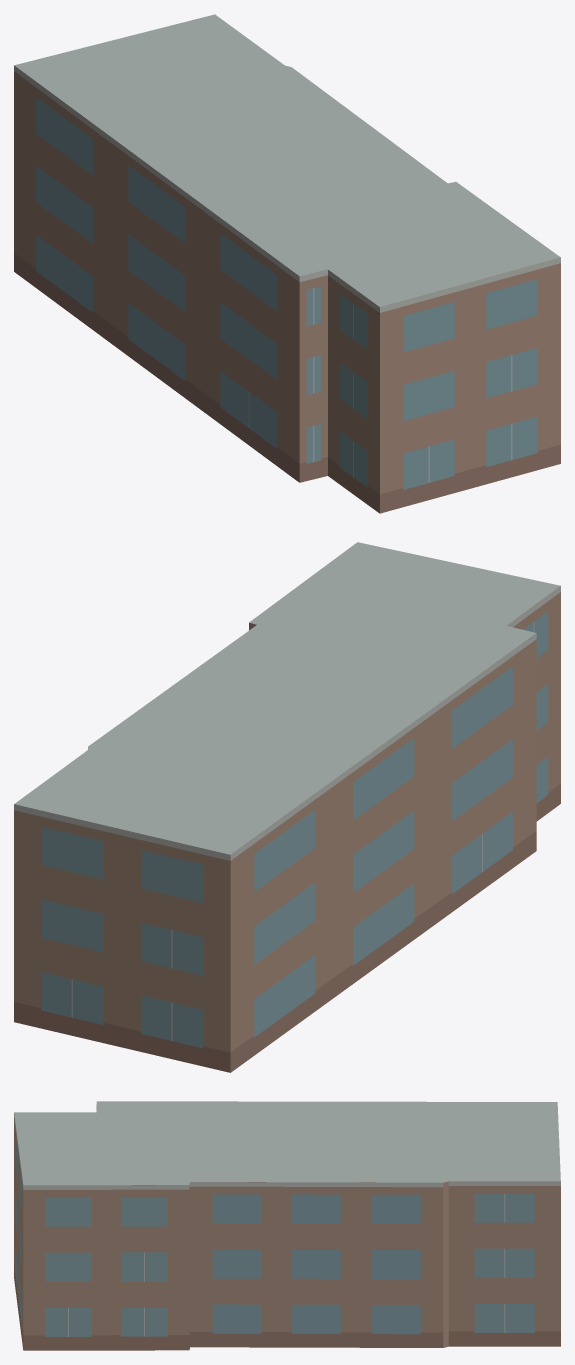
Rendered from survey-upis-32993931.glb.
3 views of the same model, one above another, from view 1: azimuth 30°, elevation 25°; view 2: azimuth 150°, elevation 25°; view 3: azimuth 270°, elevation 25° (orthographic). The views are drawn at different scales.
Visible parts, largest first — view 1: survey-upis-32993931.tmp; view 2: survey-upis-32993931.tmp; view 3: survey-upis-32993931.tmp.
Part boxes in pixels (<box>): survey-upis-32993931.tmp: <box>14,14,560,513</box>; survey-upis-32993931.tmp: <box>14,542,560,1072</box>; survey-upis-32993931.tmp: <box>14,1101,560,1350</box>.
Size of the model in its own units: 9.51 by 8.7 by 26.09.
